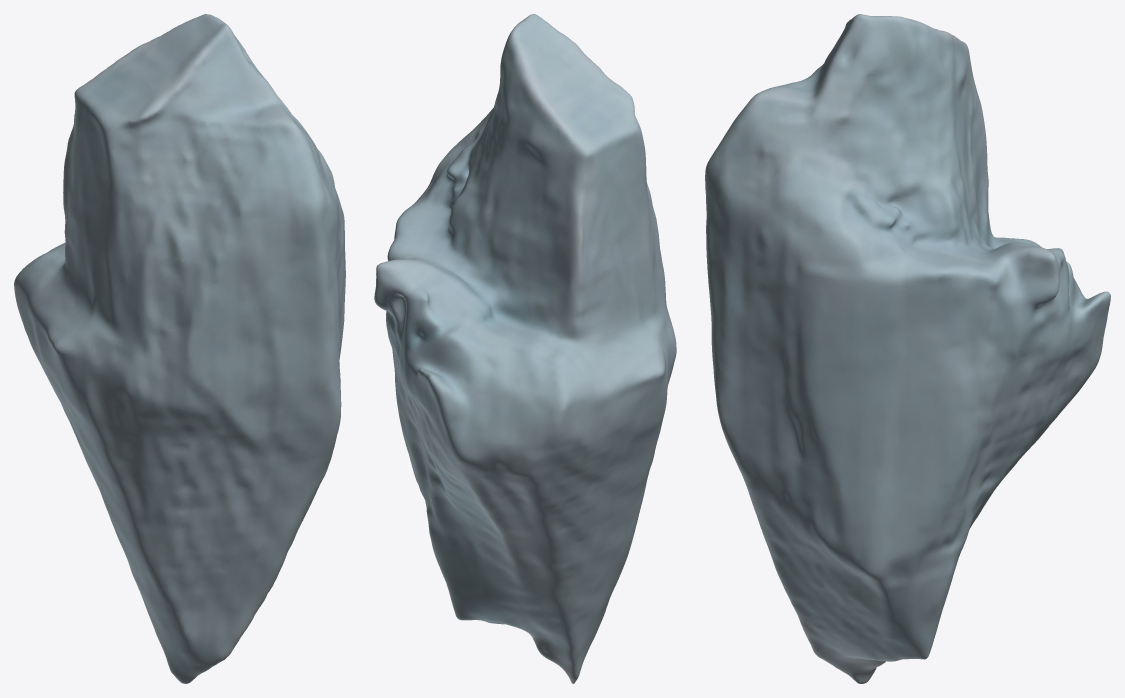
Rendered from dcba11a9293b_Iceberg__3d_asset_0.fbx.
3 renders of one model, left to right at view 1: azimuth 30°, elevation 25°; view 2: azimuth 150°, elevation 25°; view 3: azimuth 270°, elevation 25°, orthographic. The views are drawn at different scales.
Parts seen in each view (by area): view 1: high_poly; view 2: high_poly; view 3: high_poly.
Part boxes in pixels (<box>): high_poly: <box>14,14,345,683</box>; high_poly: <box>374,14,676,683</box>; high_poly: <box>705,14,1110,683</box>.
Size of the model in its own units: 40.73 by 100 by 53.26.
